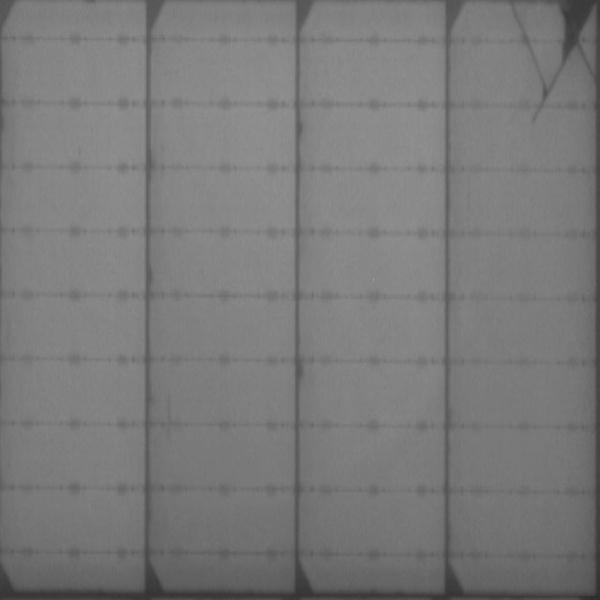broken: (502, 2, 596, 129)
